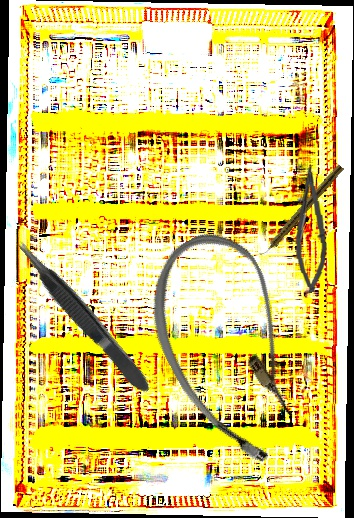Cannula: (122, 217, 341, 479)
Handpiece: (257, 162, 345, 260)
Micro Scissor: (290, 165, 330, 294)
Tissue Forceps: (9, 233, 155, 400)
